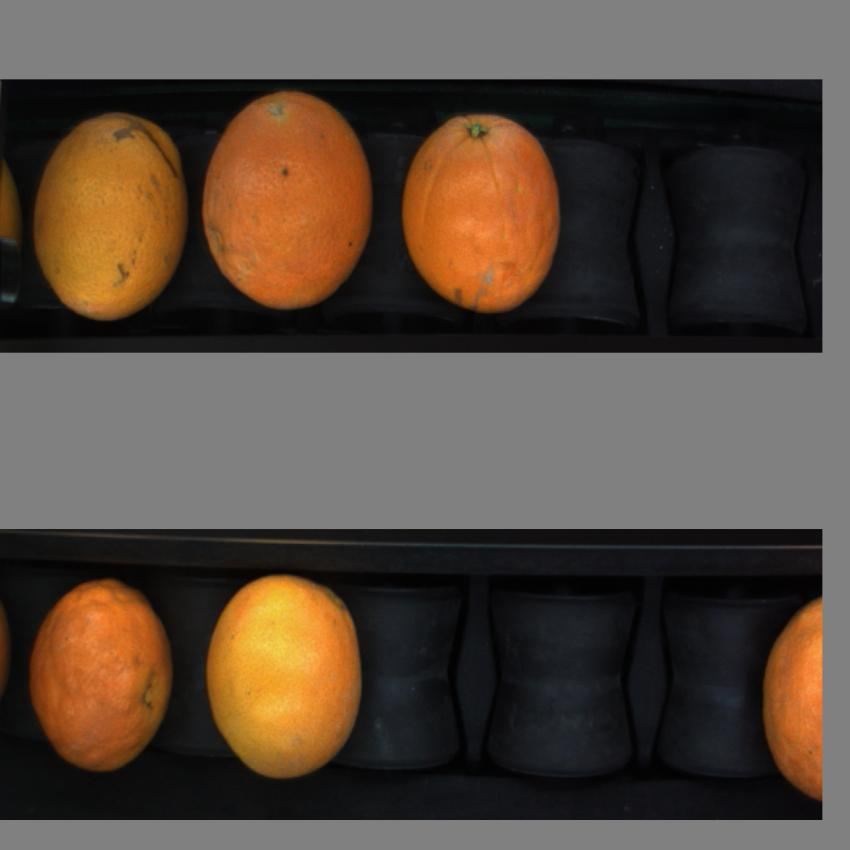Buen estado: (200, 83, 379, 304), (202, 567, 370, 782), (27, 103, 191, 321), (751, 597, 821, 801)
Mal estado: (398, 101, 566, 306), (24, 577, 180, 775)
